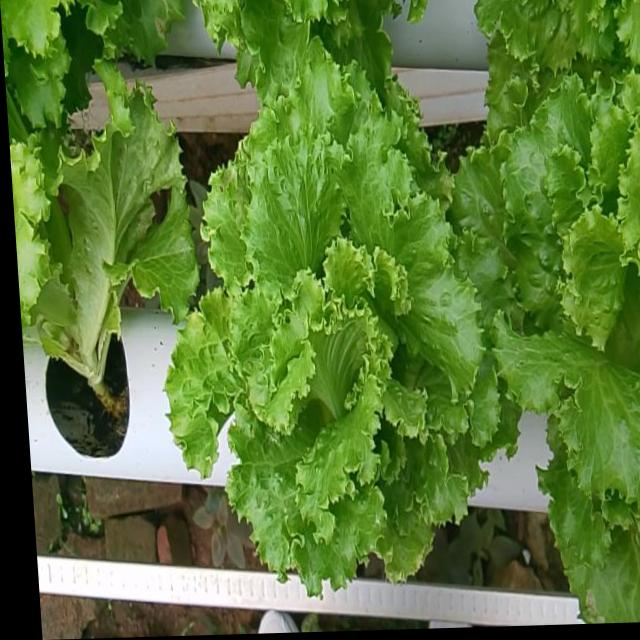Mature: (166, 71, 504, 612), (455, 84, 640, 524)
